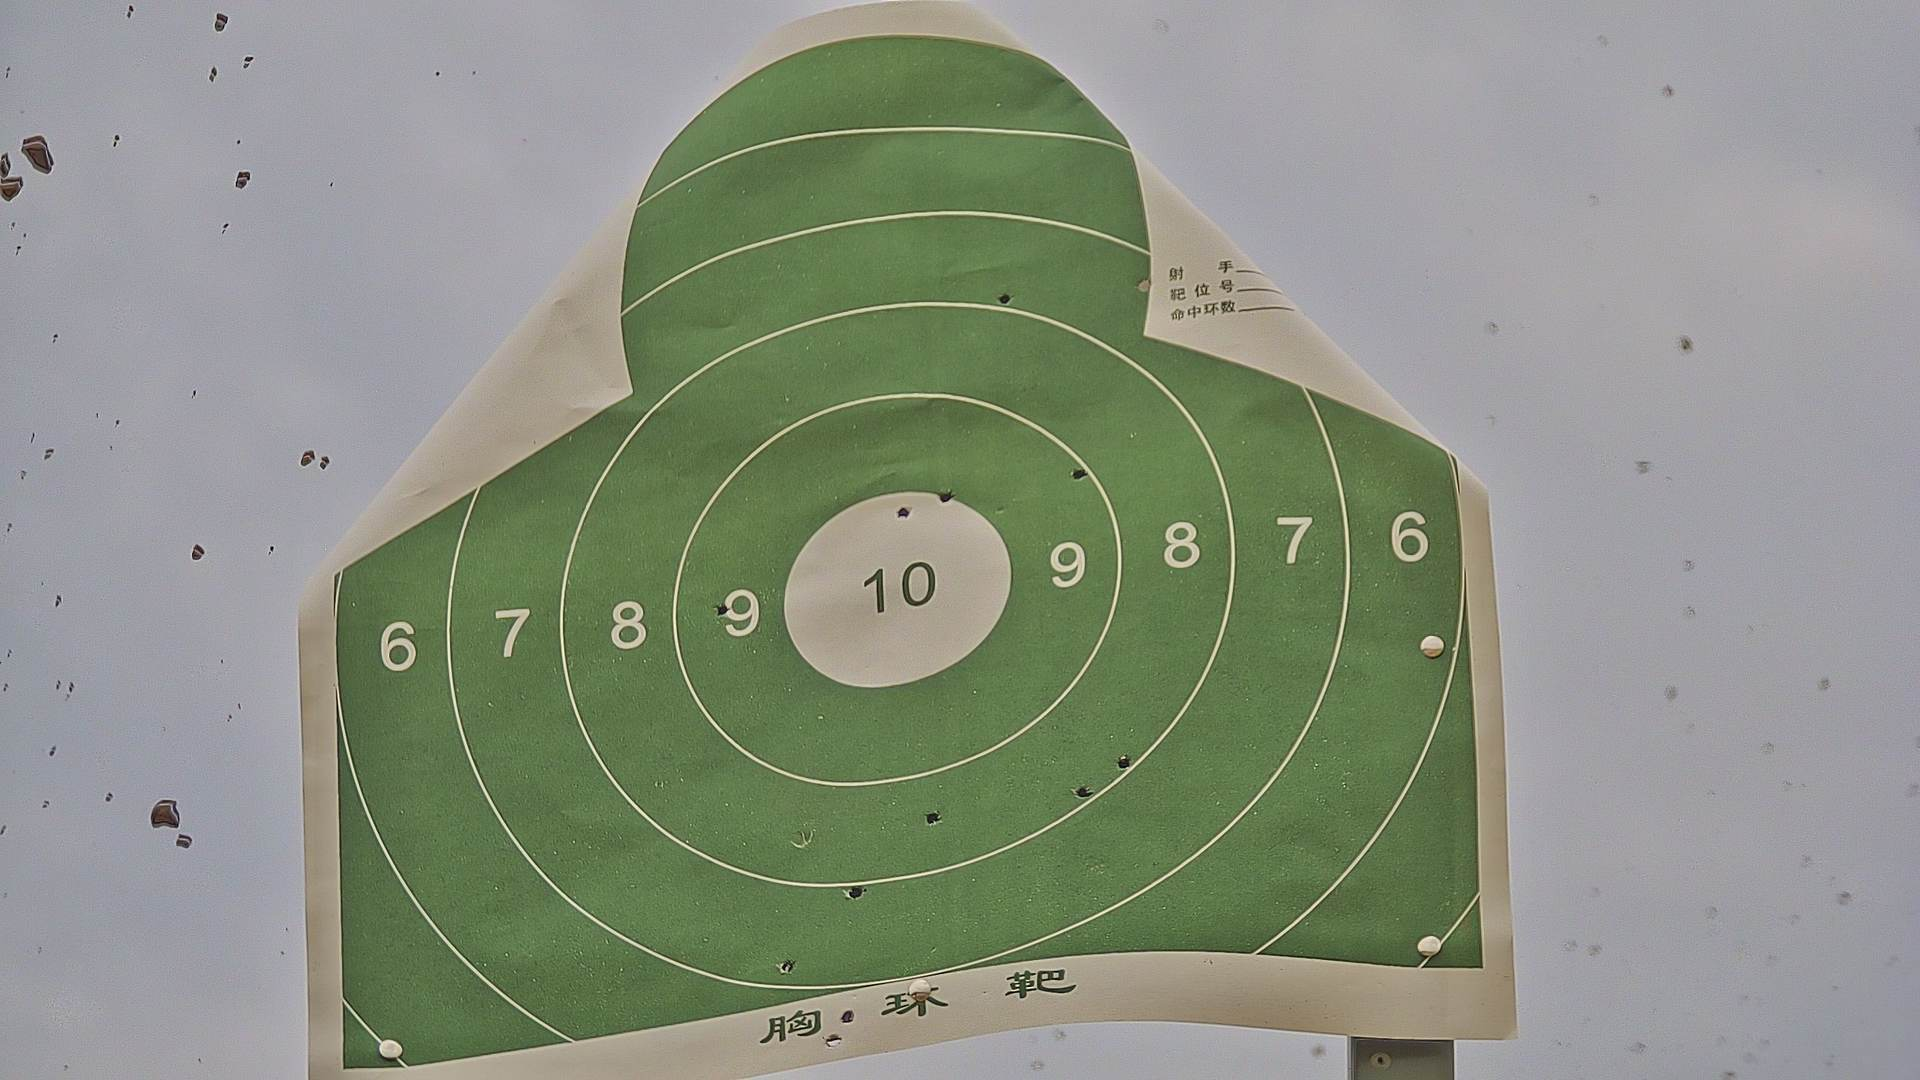hole: (840, 880, 868, 905), (993, 289, 1017, 313), (775, 953, 798, 978), (1068, 464, 1091, 487), (711, 596, 731, 620), (891, 500, 911, 522), (1071, 783, 1095, 802), (934, 487, 955, 506), (835, 1004, 855, 1025), (820, 1034, 847, 1050), (1114, 752, 1134, 771), (923, 807, 942, 828)
kernel: (887, 584, 905, 592)
target: (332, 34, 1490, 1059)
ten: (782, 491, 1013, 691)
